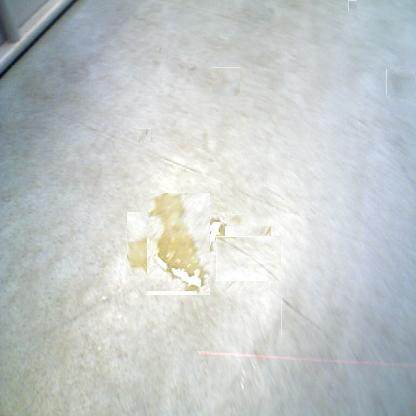liquid: (136, 203, 219, 285), (230, 214, 242, 225)
mark: (221, 231, 276, 286), (281, 298, 326, 336), (388, 67, 416, 97), (212, 67, 240, 96), (137, 129, 152, 143), (348, 0, 358, 11), (177, 62, 185, 70), (188, 64, 196, 72), (156, 48, 164, 55)
